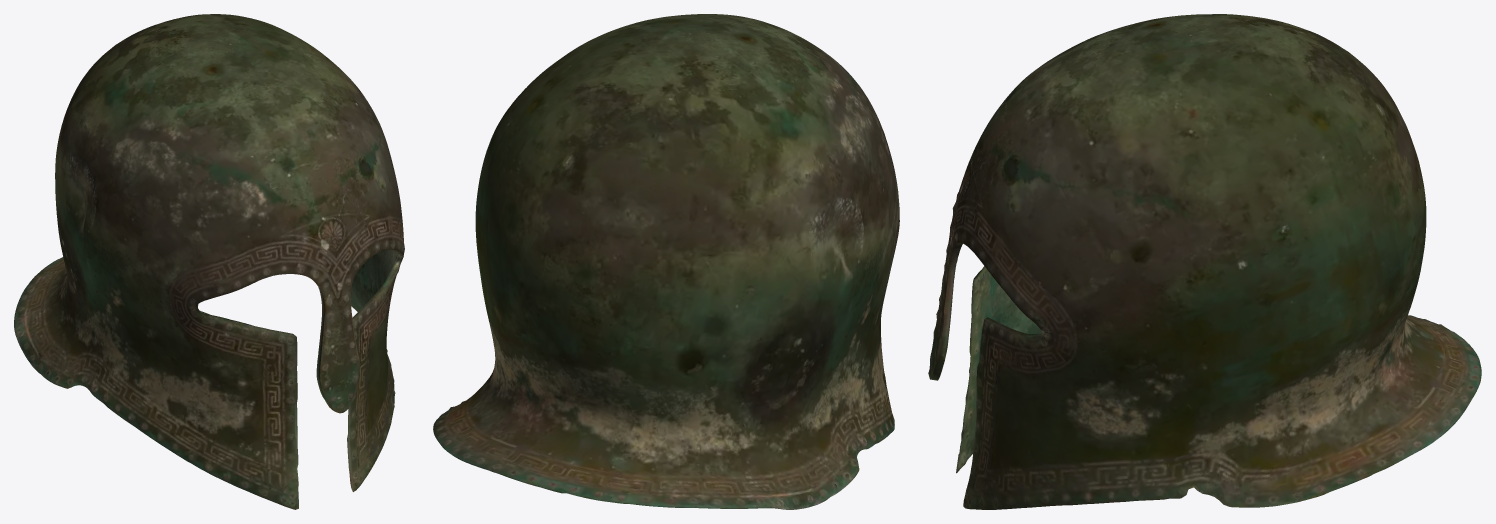
File: corinthian-helmet.glb
The picture shows the model from 3 angles, left to right: view 1: azimuth 30°, elevation 25°; view 2: azimuth 150°, elevation 25°; view 3: azimuth 270°, elevation 25°; orthographic projection. The views are drawn at different scales.
Parts seen in each view (by area): view 1: Object_2; view 2: Object_2; view 3: Object_2.
Part boxes in pixels (x1,y1,x2,y2): Object_2: (14, 14, 404, 509); Object_2: (433, 14, 899, 509); Object_2: (928, 14, 1481, 509).
Size of the model in its own units: 0.2094 by 0.2491 by 0.2724.
Materials: 1 (1 with a texture image).
